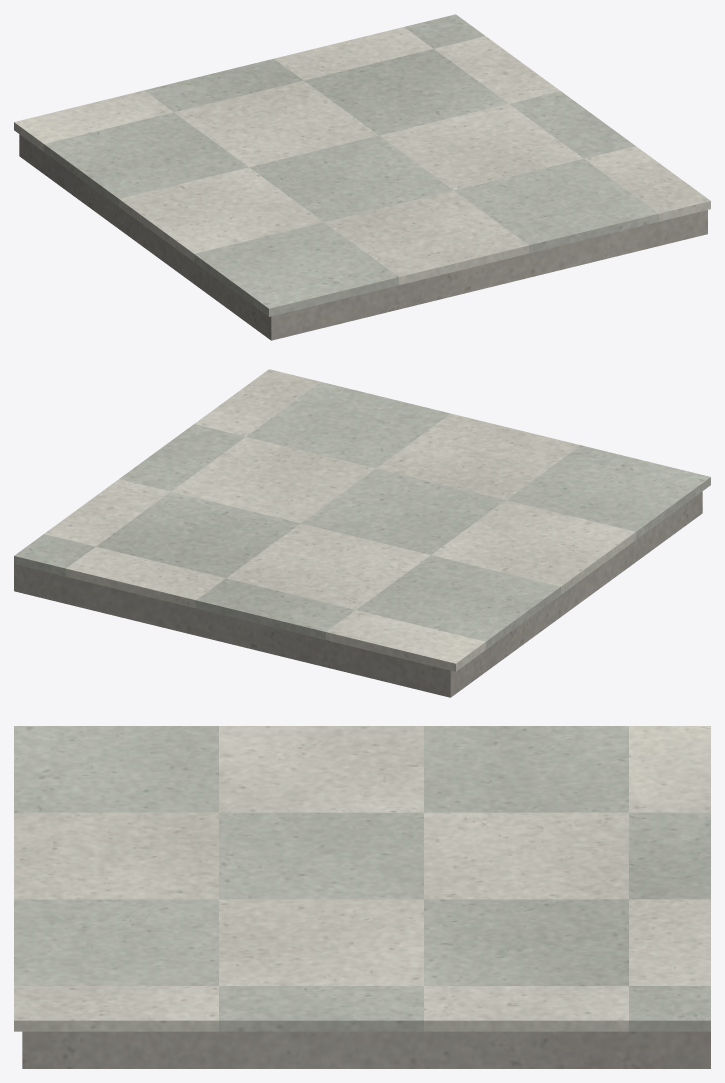
The model's file is floor_vct_g_e0_30_30_0.glb.
3 renders of one model, top to bottom at view 1: azimuth 30°, elevation 25°; view 2: azimuth 150°, elevation 25°; view 3: azimuth 270°, elevation 25°, orthographic. The views are drawn at different scales.
Parts seen in each view (by area): view 1: floor_vct_g_e0_30_30_0_vct2, floor_vct_g_e0_30_30_0_vct, floor_vct_g_e0_30_30_0_concrete; view 2: floor_vct_g_e0_30_30_0_vct2, floor_vct_g_e0_30_30_0_vct, floor_vct_g_e0_30_30_0_concrete; view 3: floor_vct_g_e0_30_30_0_vct2, floor_vct_g_e0_30_30_0_vct, floor_vct_g_e0_30_30_0_concrete.
Boxes of the visible parts, x1,y1,x2,y2 form: floor_vct_g_e0_30_30_0_vct2: (44,14,658,316); floor_vct_g_e0_30_30_0_vct: (14,27,710,285); floor_vct_g_e0_30_30_0_concrete: (19,134,707,340); floor_vct_g_e0_30_30_0_vct2: (14,382,710,649); floor_vct_g_e0_30_30_0_vct: (44,369,635,671); floor_vct_g_e0_30_30_0_concrete: (14,491,702,697); floor_vct_g_e0_30_30_0_vct2: (14,726,710,1031); floor_vct_g_e0_30_30_0_vct: (14,726,710,1031); floor_vct_g_e0_30_30_0_concrete: (22,1031,710,1068).
Bounding box in the file's own units: 1.7 × 0.13 × 1.7.
Materials: 3 (3 with a texture image).
